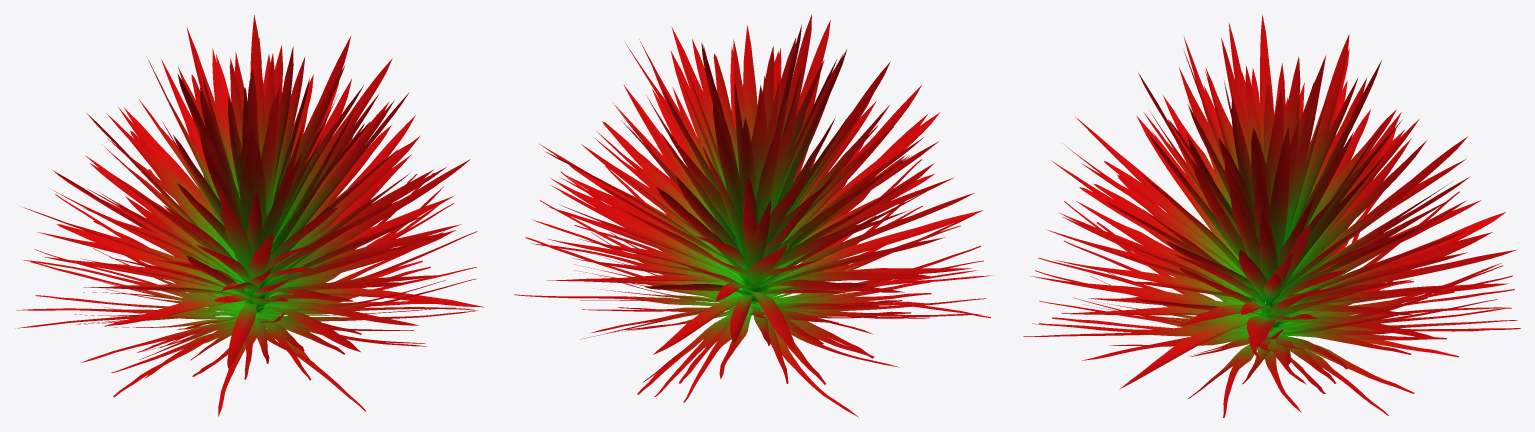
The model's file is Var10_LOD2.fbx.
3 renders of one model, left to right at view 1: azimuth 30°, elevation 25°; view 2: azimuth 150°, elevation 25°; view 3: azimuth 270°, elevation 25°, orthographic. The views are drawn at different scales.
Visible parts, largest first — view 1: _6fje_Var10_LOD2; view 2: _6fje_Var10_LOD2; view 3: _6fje_Var10_LOD2.
Boxes of the visible parts, left/top/right/bottom form: _6fje_Var10_LOD2: left=15, top=15, right=484, bottom=416; _6fje_Var10_LOD2: left=514, top=14, right=993, bottom=416; _6fje_Var10_LOD2: left=1023, top=14, right=1520, bottom=417.
Bounding box in the file's own units: 98.26 × 67.82 × 98.66.
